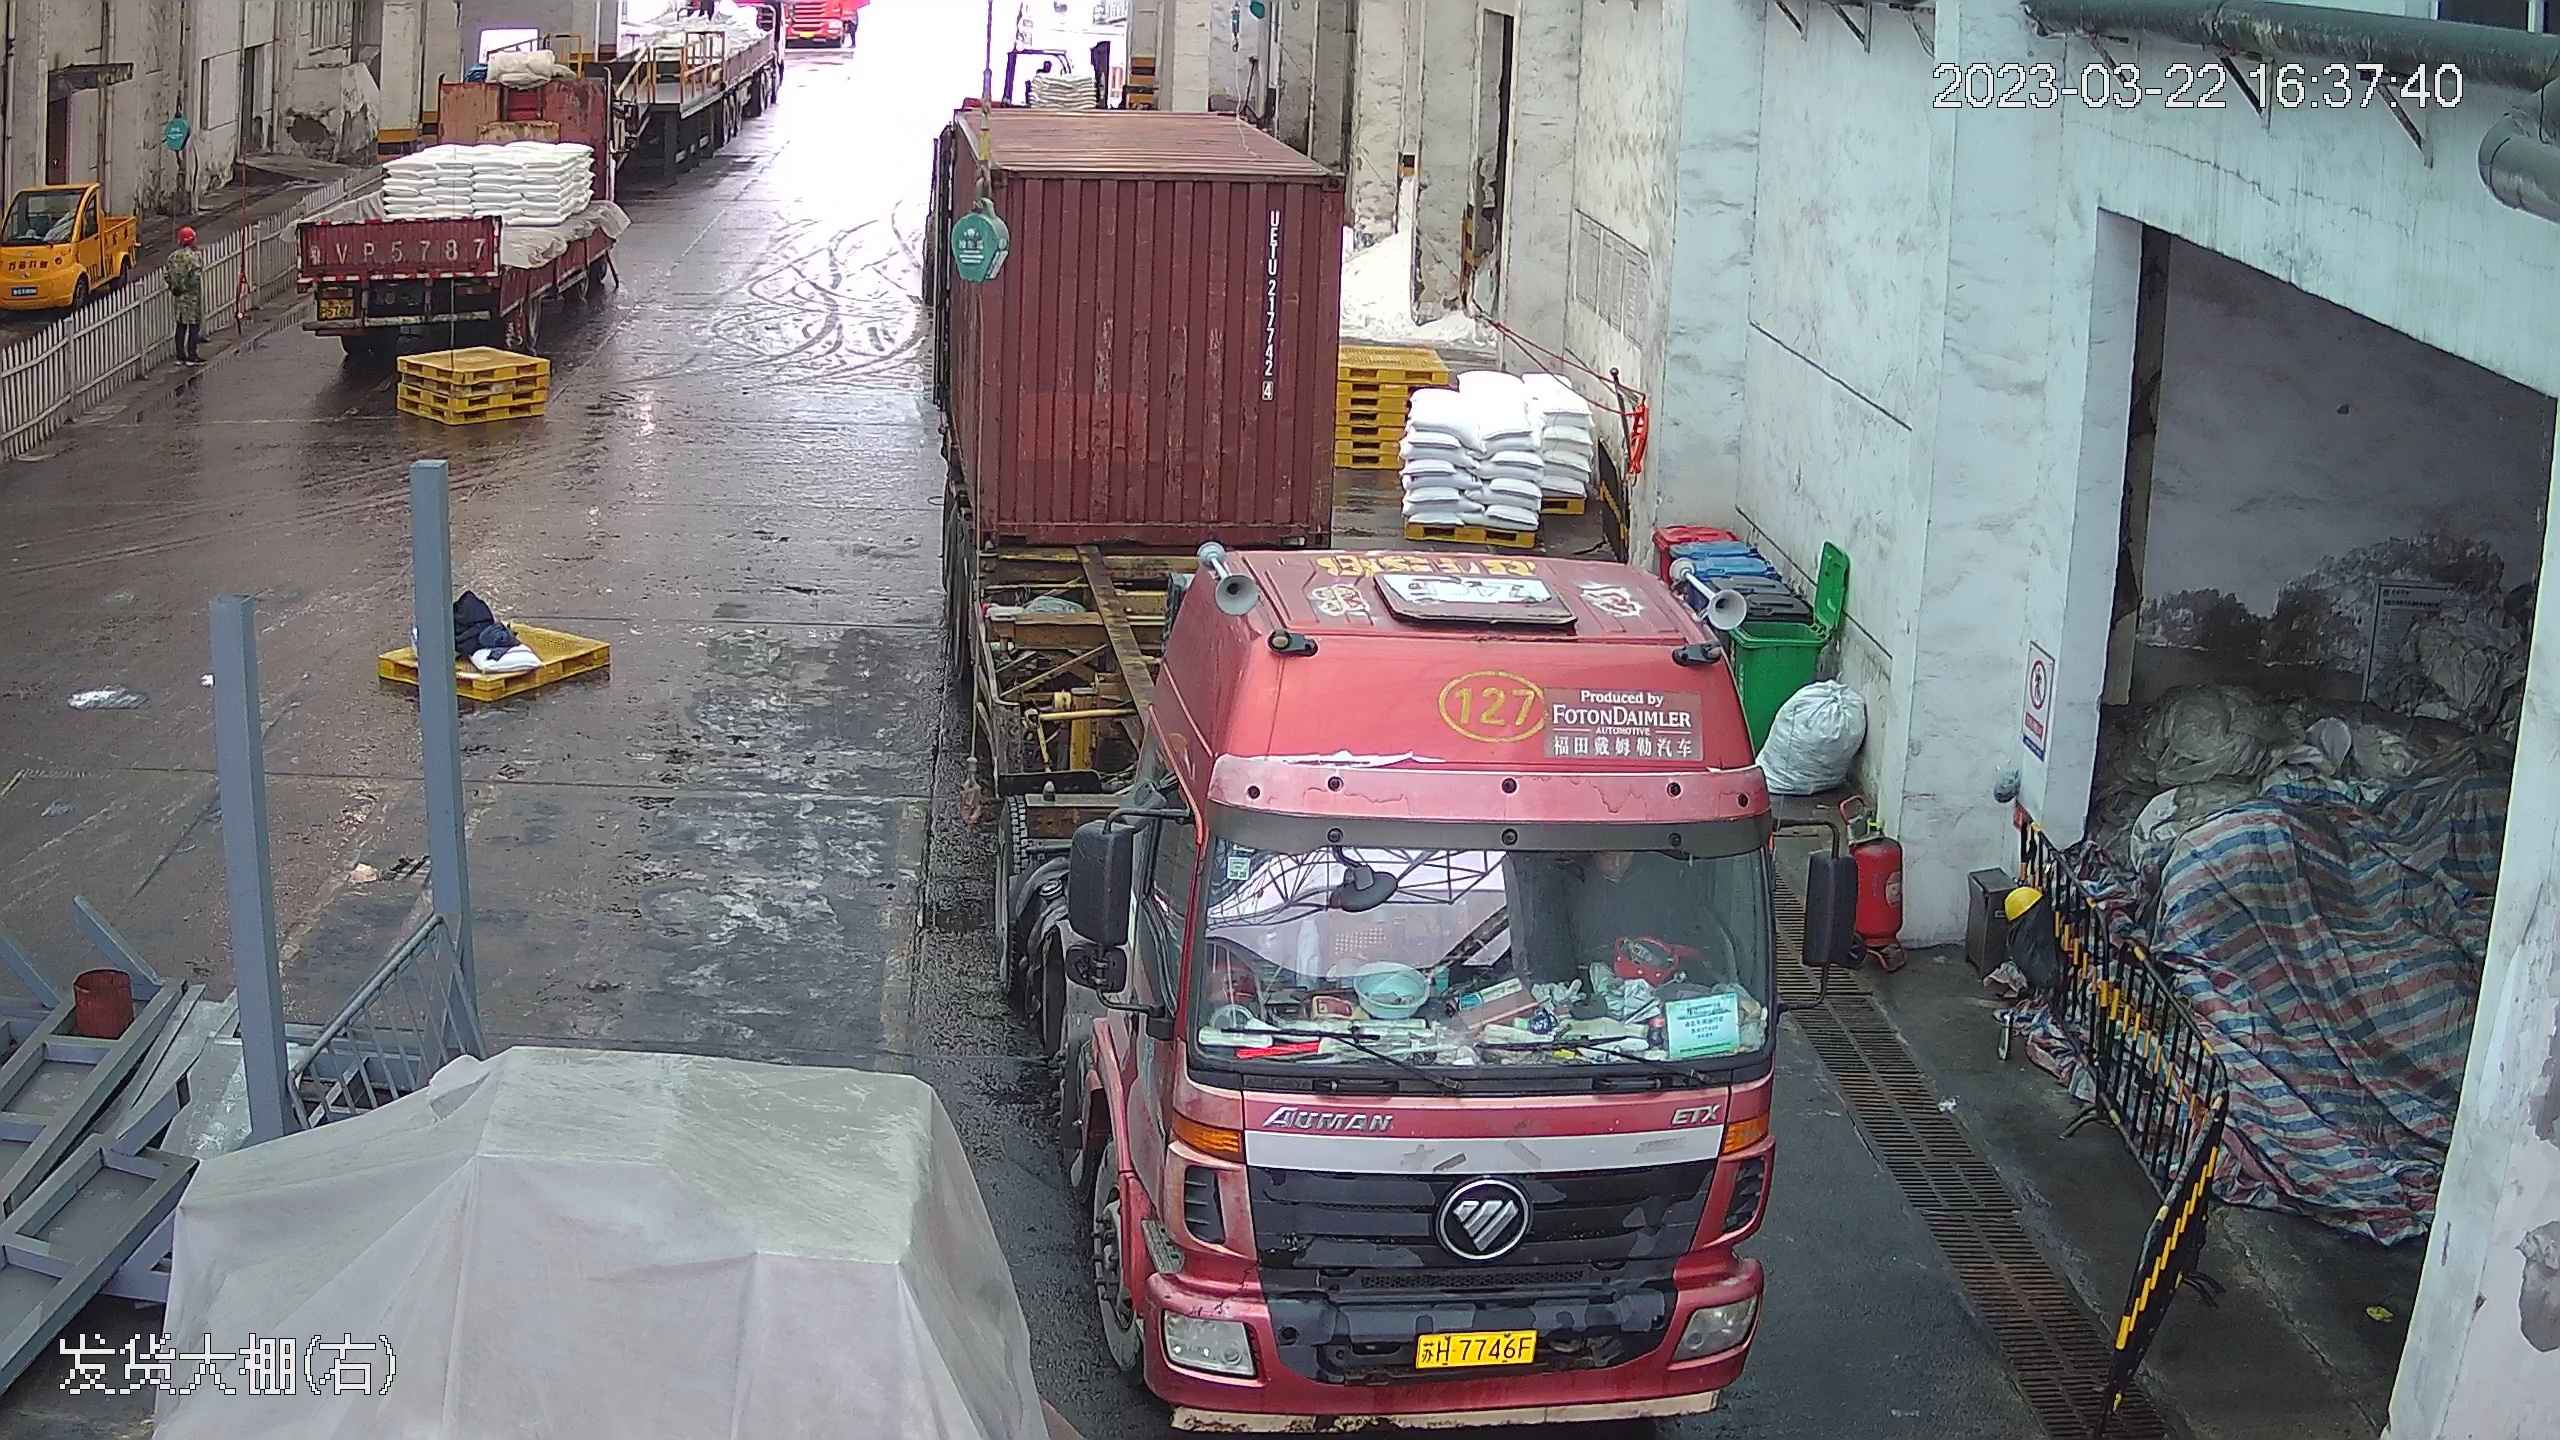head: (163, 226, 203, 278)
helmet: (2002, 884, 2043, 919), (173, 223, 196, 243)
people: (161, 224, 207, 377)
truck: (919, 18, 1808, 1430), (270, 13, 646, 372)
